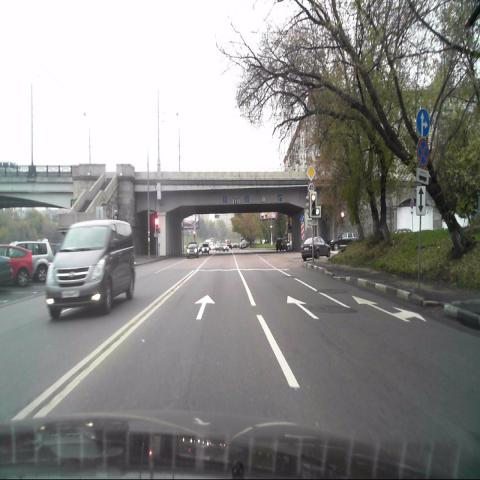8_2_4: (416, 185, 426, 217)
8_4_4: (416, 167, 429, 185)
